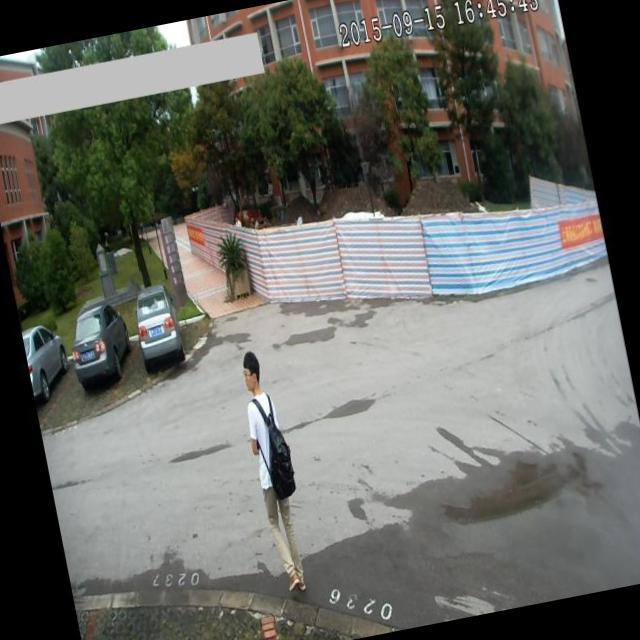person: (230, 345, 320, 601)
